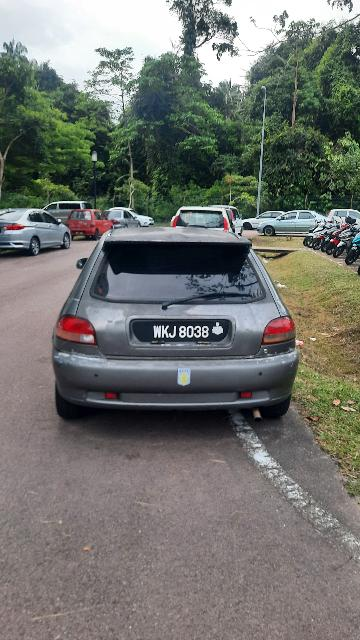License_Plate: (129, 316, 233, 348)
car: (46, 228, 298, 431)
